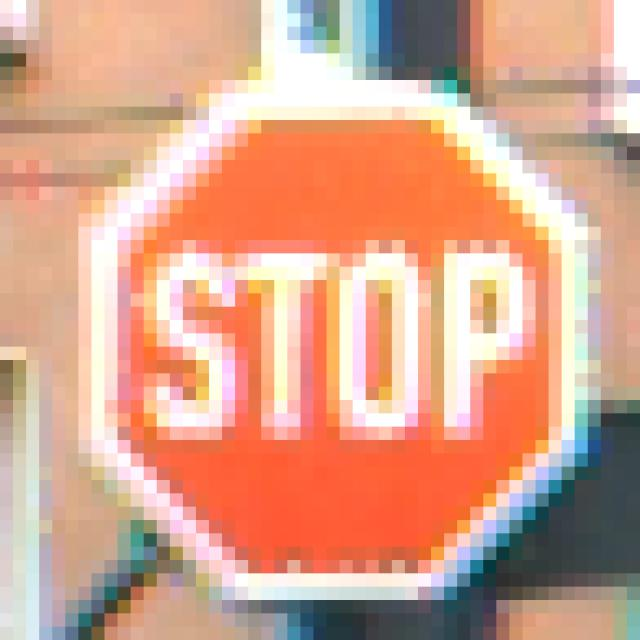STOP: (79, 68, 563, 574)
